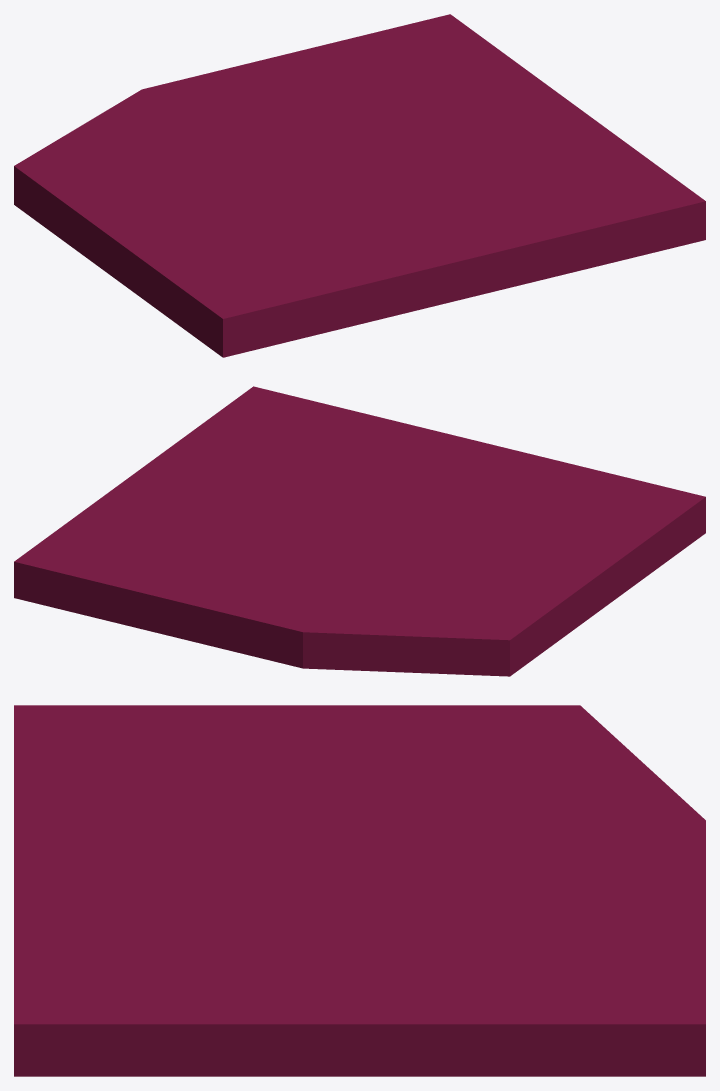
The picture shows the model from 3 angles, top to bottom: view 1: azimuth 30°, elevation 25°; view 2: azimuth 150°, elevation 25°; view 3: azimuth 270°, elevation 25°; orthographic projection. The views are drawn at different scales.
Size of the model in its own units: 5.02 by 0.3853 by 4.6.
